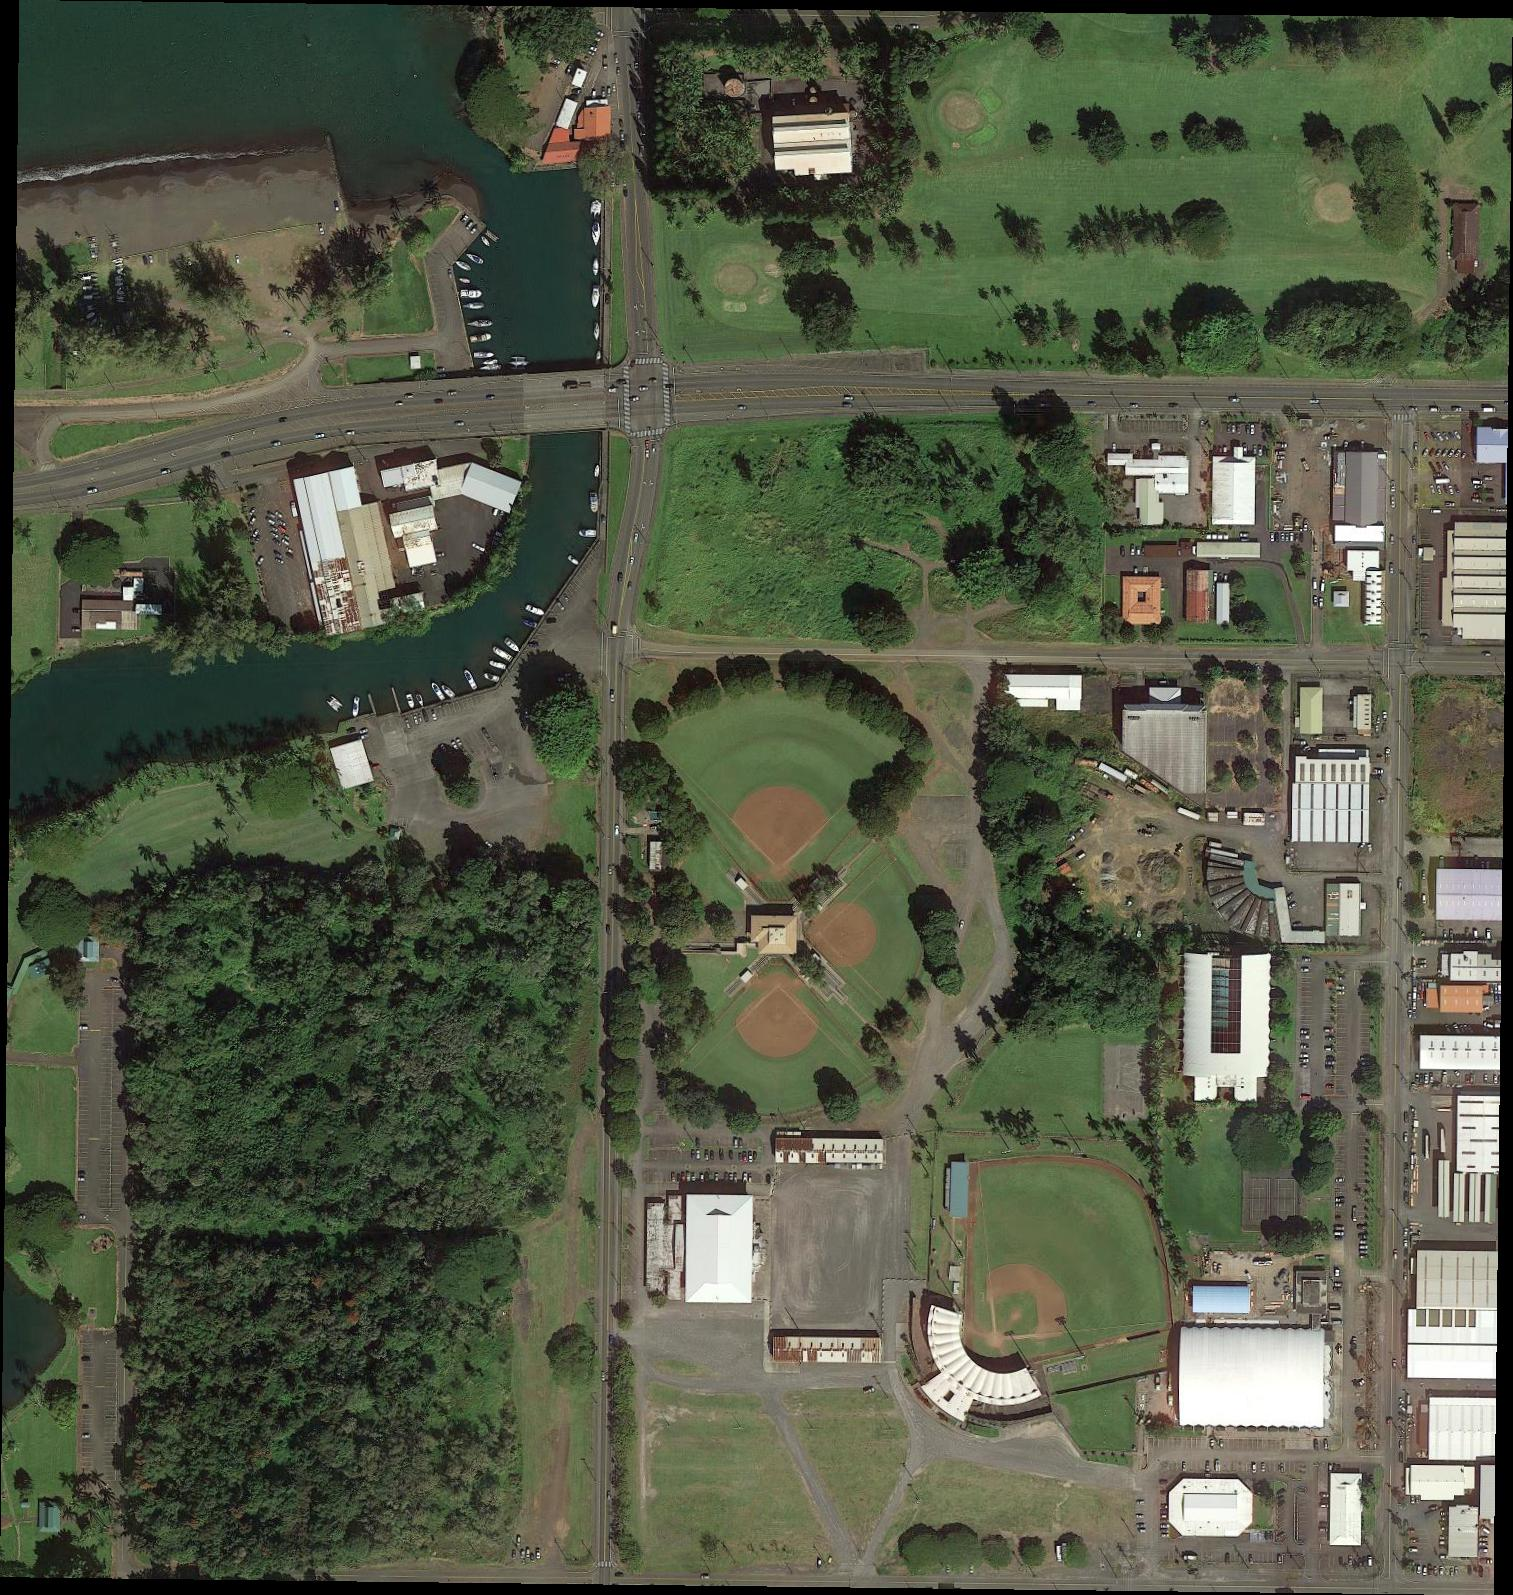ship: (326, 695, 346, 714), (492, 645, 513, 662), (429, 682, 447, 702), (464, 670, 479, 691), (465, 252, 485, 267), (503, 637, 520, 654), (525, 604, 546, 617), (508, 357, 529, 370), (441, 682, 456, 699), (471, 333, 493, 344), (589, 199, 602, 219), (592, 222, 602, 246), (455, 259, 474, 272), (468, 320, 495, 328), (485, 230, 501, 243), (488, 661, 508, 671), (483, 672, 501, 684), (459, 290, 482, 299), (592, 286, 600, 308), (353, 697, 361, 718), (590, 493, 599, 513), (407, 692, 417, 709), (567, 554, 580, 567), (579, 529, 597, 537), (417, 692, 427, 708), (464, 303, 485, 310), (474, 353, 495, 360), (592, 259, 600, 276), (523, 618, 538, 628), (481, 236, 491, 247), (481, 365, 501, 371), (594, 323, 600, 341), (594, 463, 602, 478), (594, 351, 602, 365), (483, 360, 498, 365), (459, 279, 471, 284)
